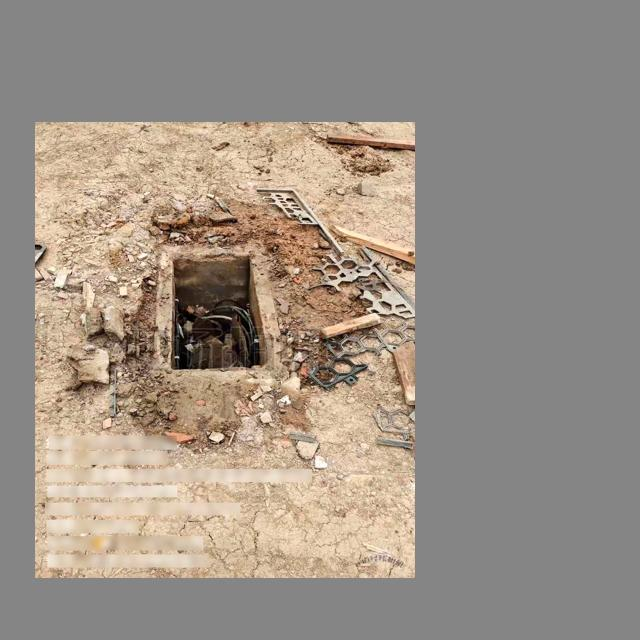lose: (166, 254, 270, 373)
